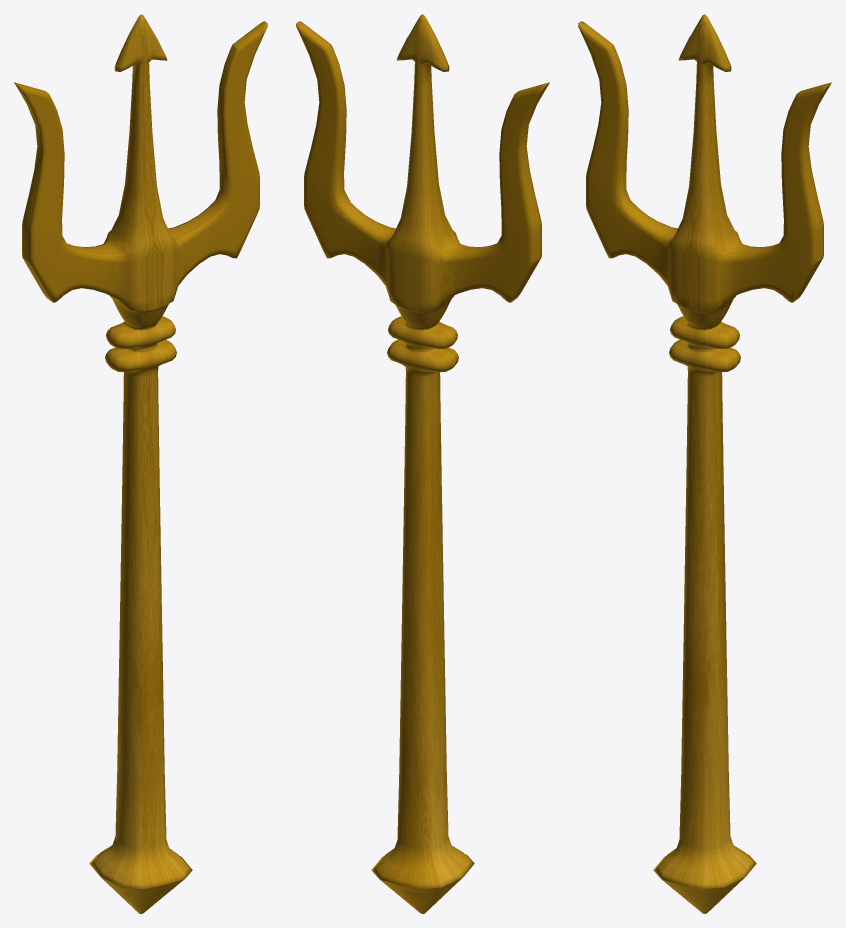
The model's file is PosseidonWeapon.fbx.
3 views of the same model, side by side, from view 1: azimuth 30°, elevation 25°; view 2: azimuth 150°, elevation 25°; view 3: azimuth 330°, elevation 25° (orthographic).
Visible parts, largest first — view 1: Cube; view 2: Cube; view 3: Cube.
Part boxes in pixels (box(x1,y1,x2,y2)): Cube: box(14, 14, 267, 913); Cube: box(296, 14, 549, 913); Cube: box(578, 14, 831, 913).
Bounding box in the file's own units: 404 × 1383 × 137.
Materials: 1 (1 with a texture image).
